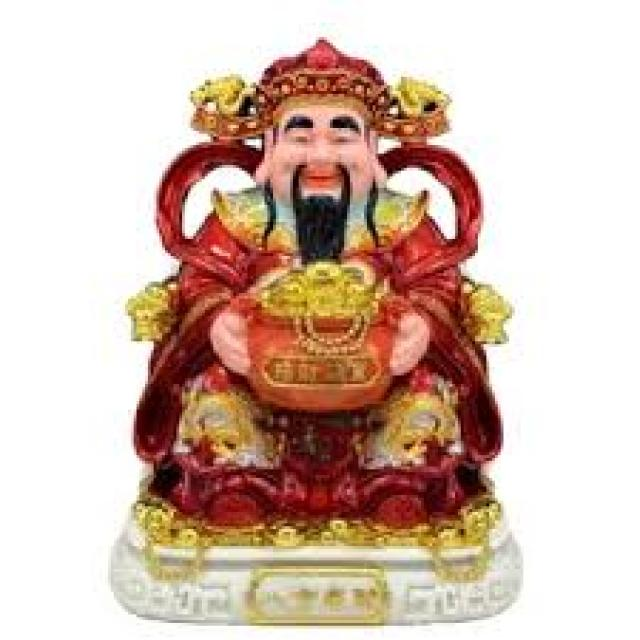Cai shen: (168, 26, 448, 454)
